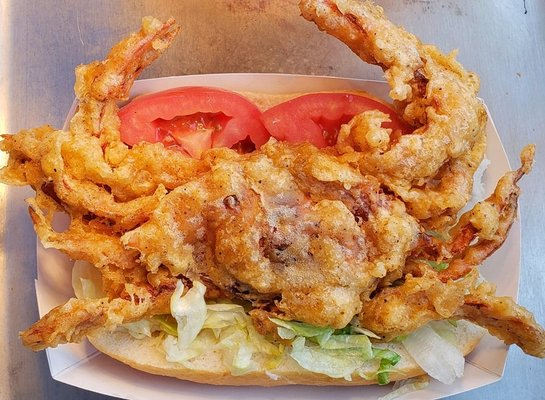sandwich: (4, 15, 538, 390)
